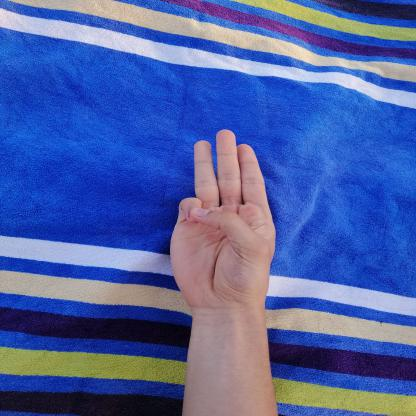THA: (156, 119, 289, 316)
